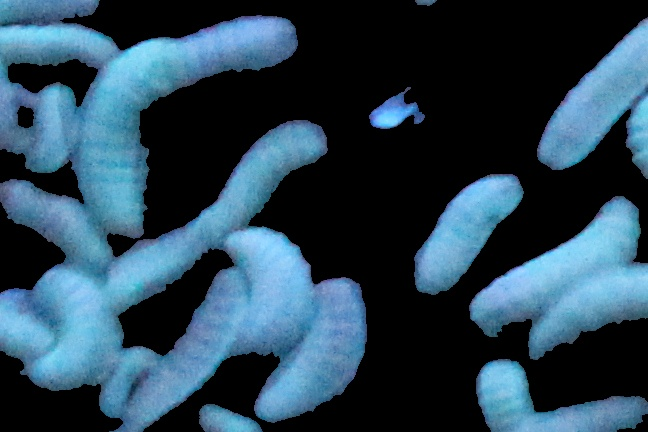larvae: (471, 199, 640, 333), (539, 18, 648, 169), (132, 271, 239, 420), (210, 117, 335, 233), (93, 35, 165, 233), (417, 174, 523, 291), (268, 282, 367, 405), (526, 265, 646, 361), (38, 271, 125, 388), (2, 178, 110, 266), (235, 233, 300, 365), (174, 16, 300, 81), (124, 224, 205, 295), (1, 21, 119, 67), (1, 270, 51, 365), (471, 359, 533, 432), (531, 396, 648, 431), (23, 88, 74, 168), (96, 347, 144, 417), (1, 1, 102, 23), (196, 403, 254, 432)
